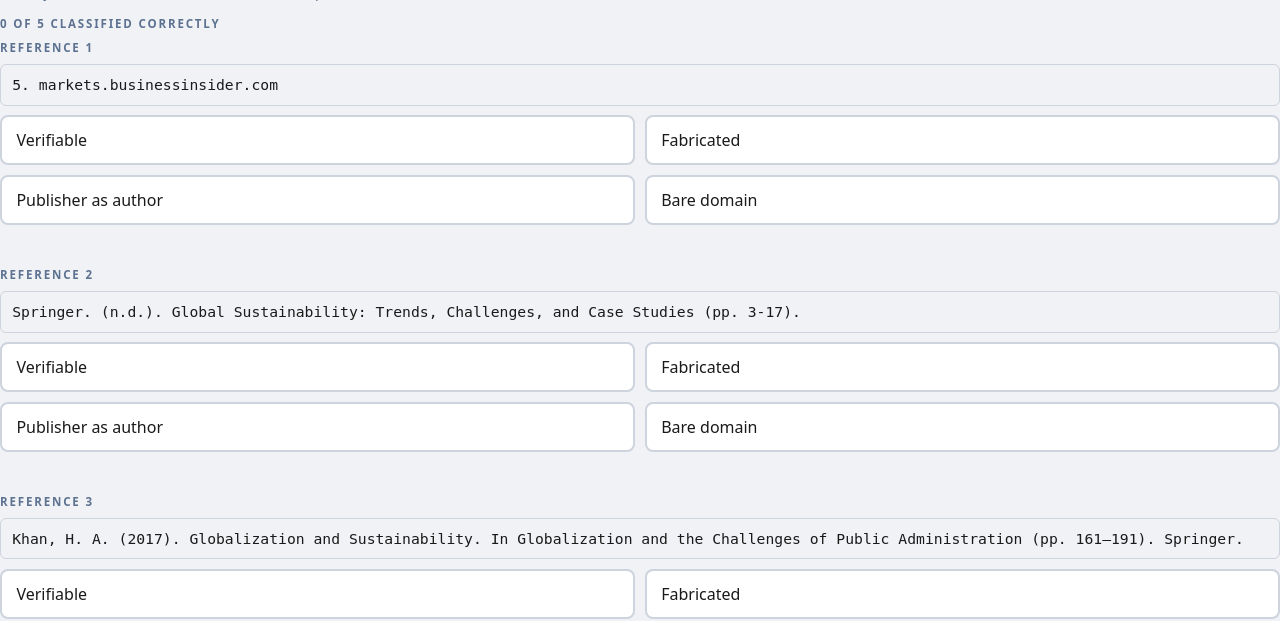
Scenario: SourceChecker › fails and offers a retry when too many are wrong
Step 1. Click the 1st button "Bare domain" → (709, 200), box x1=645 y1=175 x2=1279 y2=225
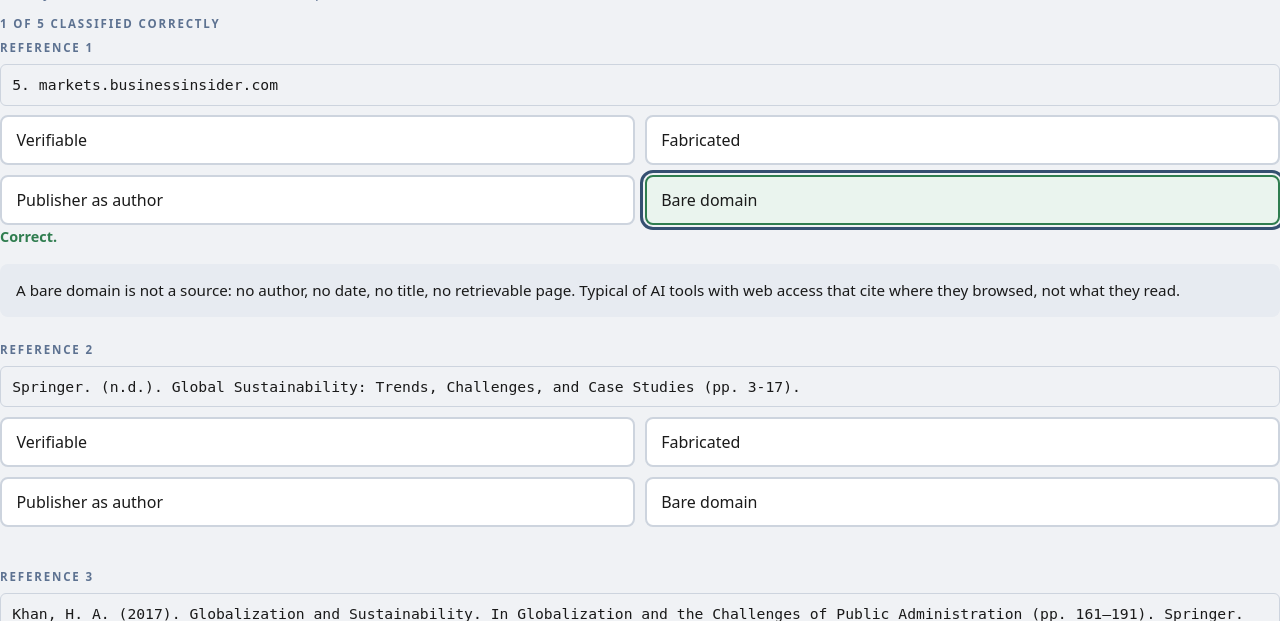
Step 2. Click the button "Publisher as author" below "Reference 2" → (90, 502), box x1=0 y1=477 x2=635 y2=527
(page scrolled)
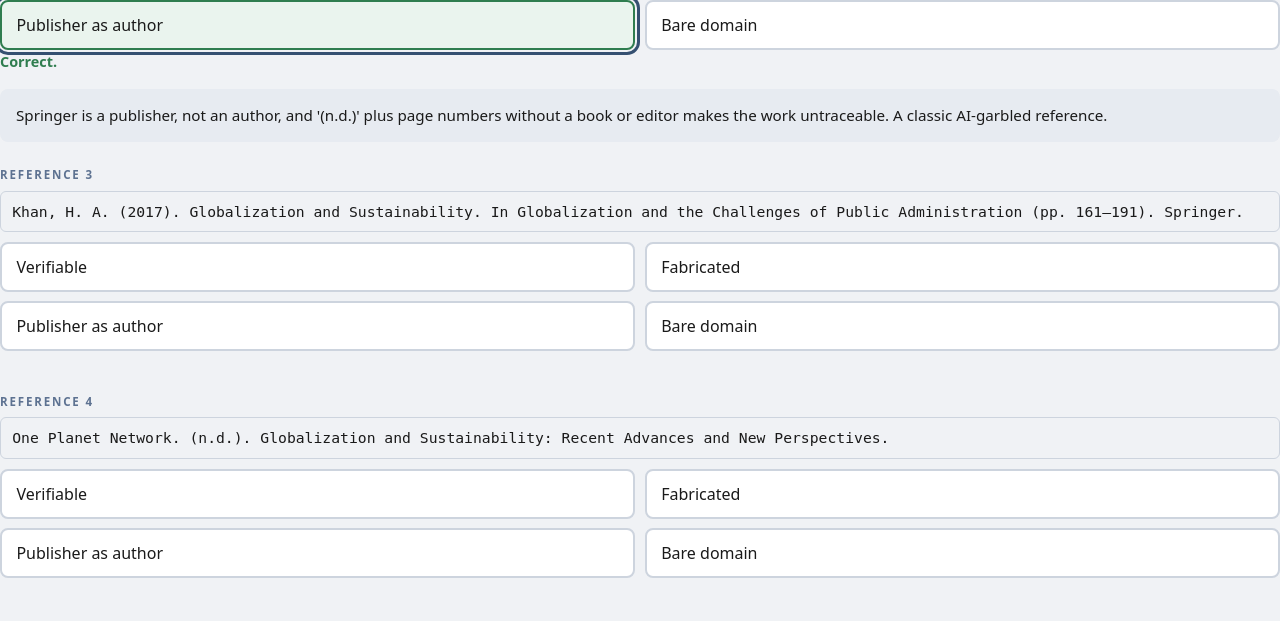
Step 3. Click the button "Verifiable" below "Reference 3" → (52, 267), box x1=0 y1=242 x2=635 y2=292
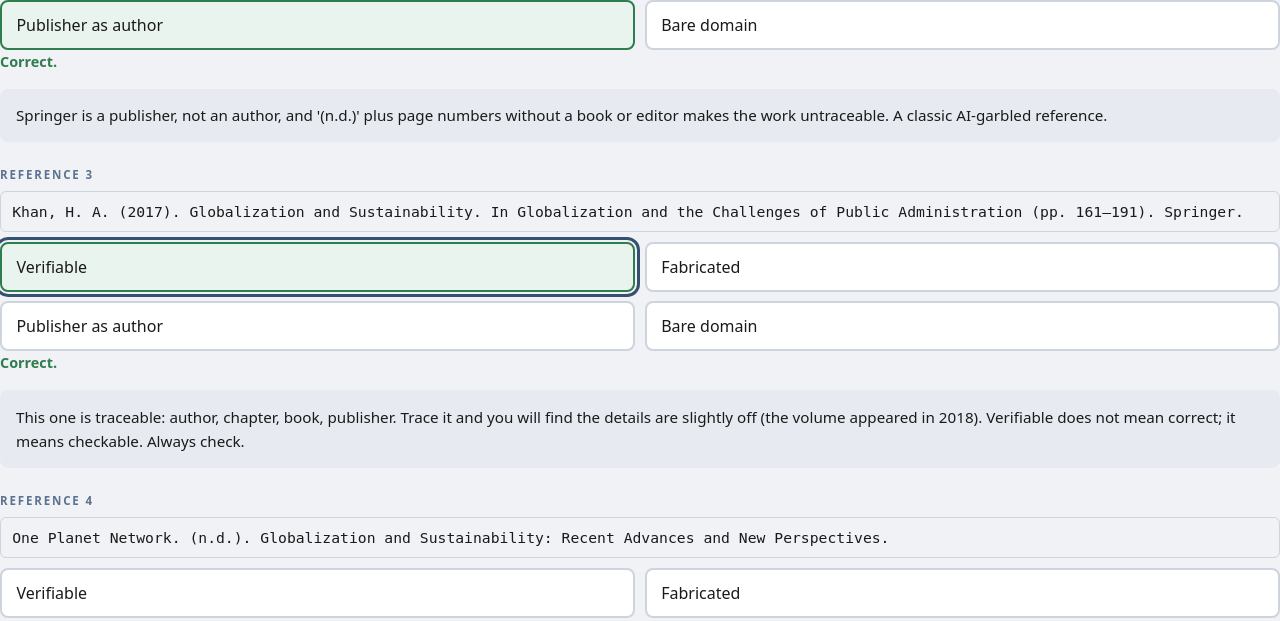
Step 4. Click the button "Verifiable" below "Reference 4" → (52, 593), box x1=0 y1=568 x2=635 y2=618
(page scrolled)
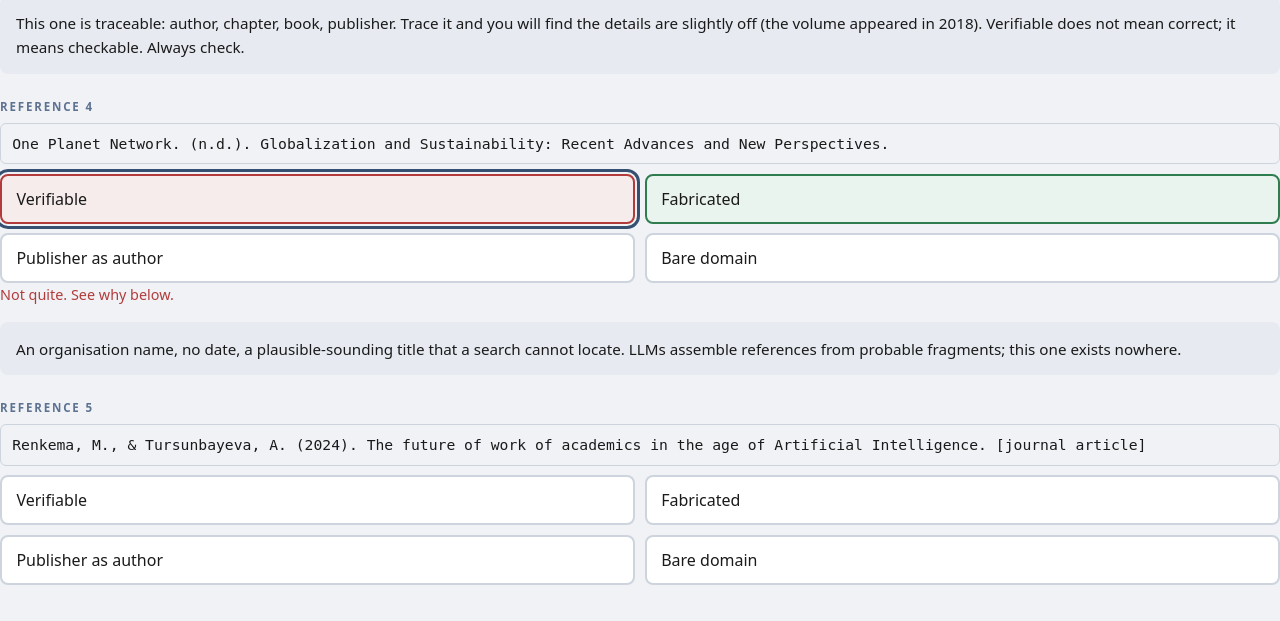
Step 5. Click the 2nd button "Fabricated" → (701, 500), box x1=645 y1=475 x2=1279 y2=525
(page scrolled)
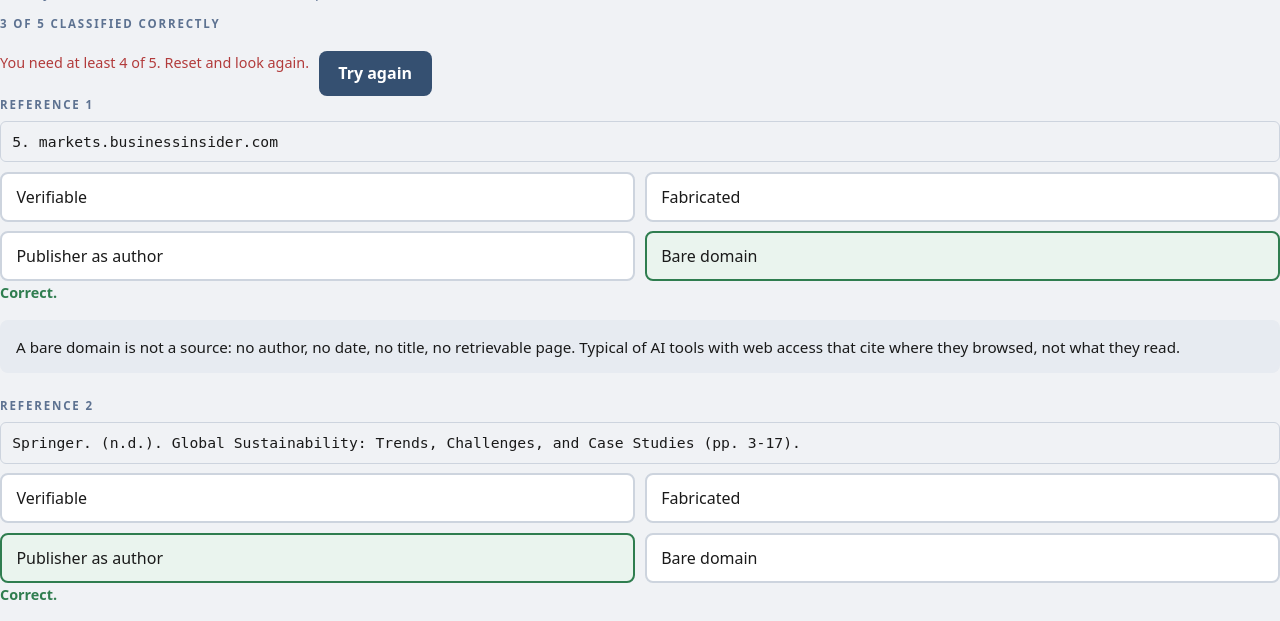
Now the text "You need at least 4 of 5. Reset and look again." is shown, box x1=0 y1=51 x2=309 y2=81
Now the button "Try again" is shown, box x1=319 y1=51 x2=432 y2=96
